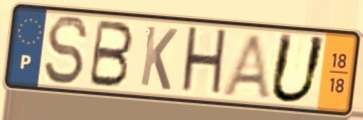A: (219, 32, 274, 102)
B: (86, 17, 136, 90)
H: (178, 24, 229, 100)
K: (138, 23, 180, 94)
S: (42, 14, 91, 87)
U: (266, 30, 330, 106)
